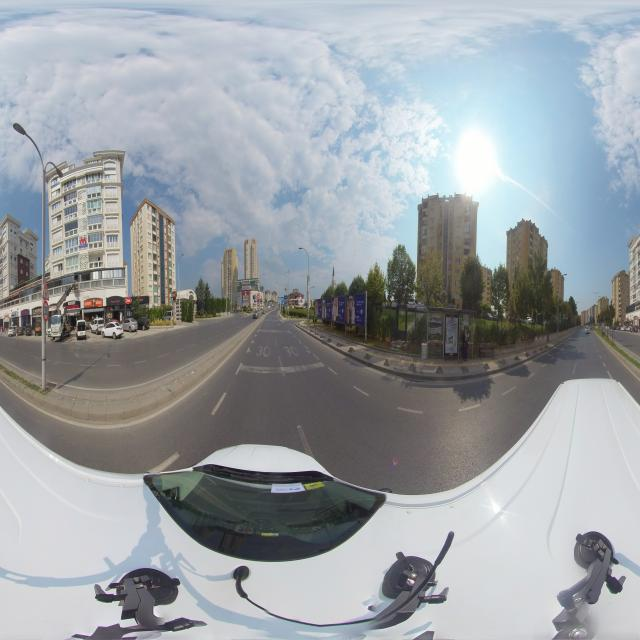SignStore: (111, 297, 133, 306), (84, 299, 103, 307), (66, 301, 81, 309), (33, 308, 42, 315), (22, 309, 29, 316), (11, 312, 18, 317), (4, 313, 10, 318)
